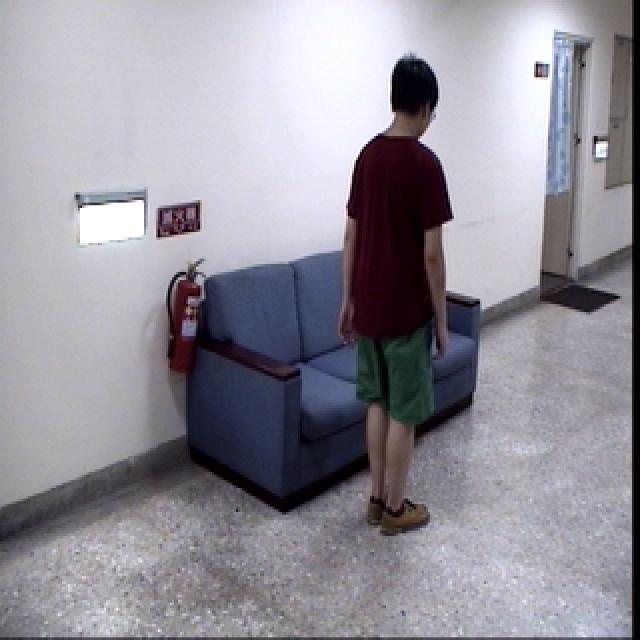stand: (324, 36, 462, 556)
